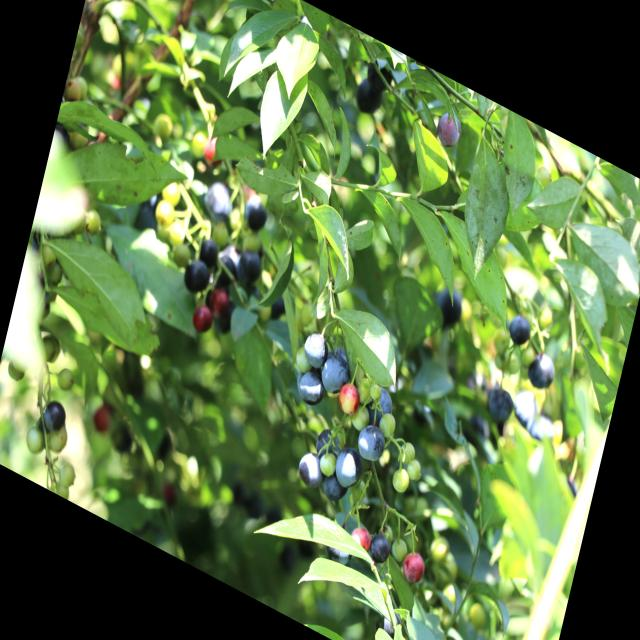blueberry: (428, 276, 467, 339), (199, 174, 238, 233), (315, 343, 352, 402), (291, 440, 329, 494), (350, 77, 389, 127), (353, 416, 389, 468), (525, 345, 562, 395), (331, 440, 367, 491), (363, 381, 394, 433), (294, 361, 326, 411), (485, 381, 518, 429), (300, 323, 331, 373), (181, 256, 212, 299), (313, 423, 345, 464), (324, 533, 356, 574), (364, 53, 395, 95), (373, 603, 407, 640), (243, 190, 272, 233), (42, 393, 69, 437), (212, 250, 241, 290), (236, 247, 264, 286), (366, 530, 393, 570), (507, 309, 534, 348), (196, 234, 221, 269), (321, 474, 348, 506)
blueberry-halfripe: (398, 546, 430, 591), (335, 378, 364, 420), (347, 520, 374, 558), (190, 300, 216, 338), (209, 285, 231, 317)
blueberry-unripe: (22, 421, 48, 459), (38, 330, 63, 367), (388, 461, 413, 496), (46, 421, 70, 456), (318, 446, 340, 481), (57, 457, 79, 491), (376, 408, 399, 440), (354, 374, 376, 407), (349, 400, 370, 434), (55, 366, 76, 396), (389, 534, 409, 565), (404, 454, 424, 484), (397, 439, 417, 468)
